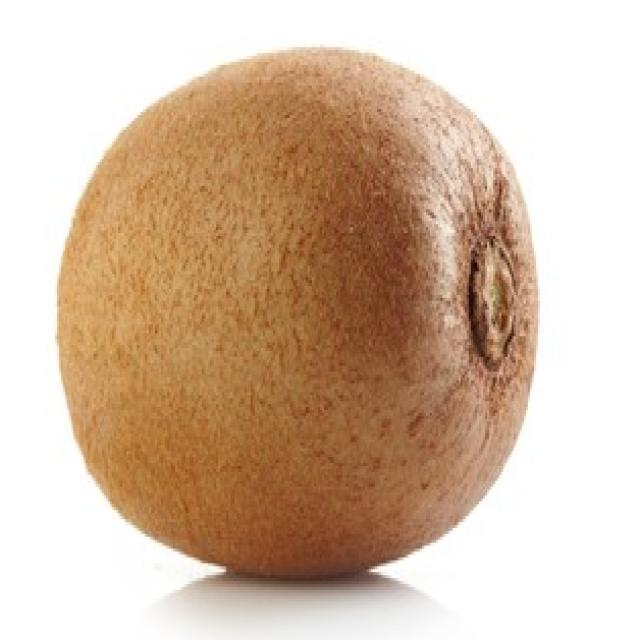kiwi: (59, 50, 540, 578)
